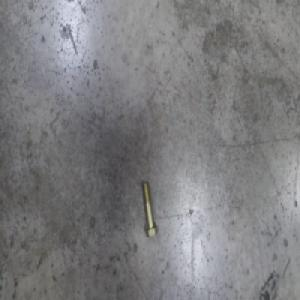Bolt: (142, 181, 159, 239)
